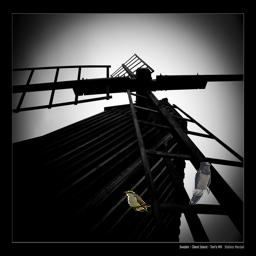Cuckoo: (123, 189, 151, 212)
Swallow: (189, 162, 211, 205)
